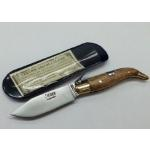Pisau: (7, 68, 140, 120)
